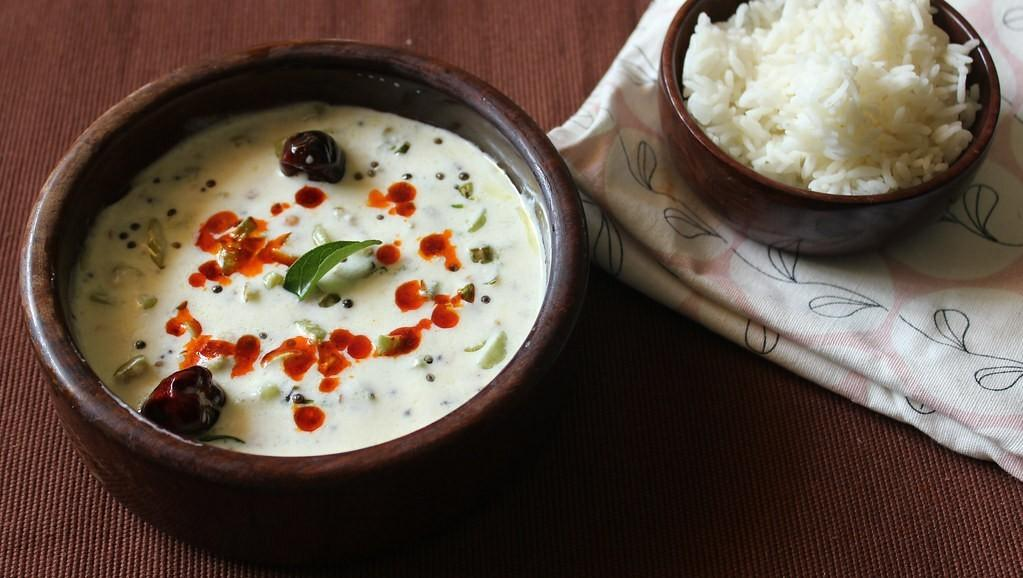CoconutChutney: (72, 101, 546, 457)
